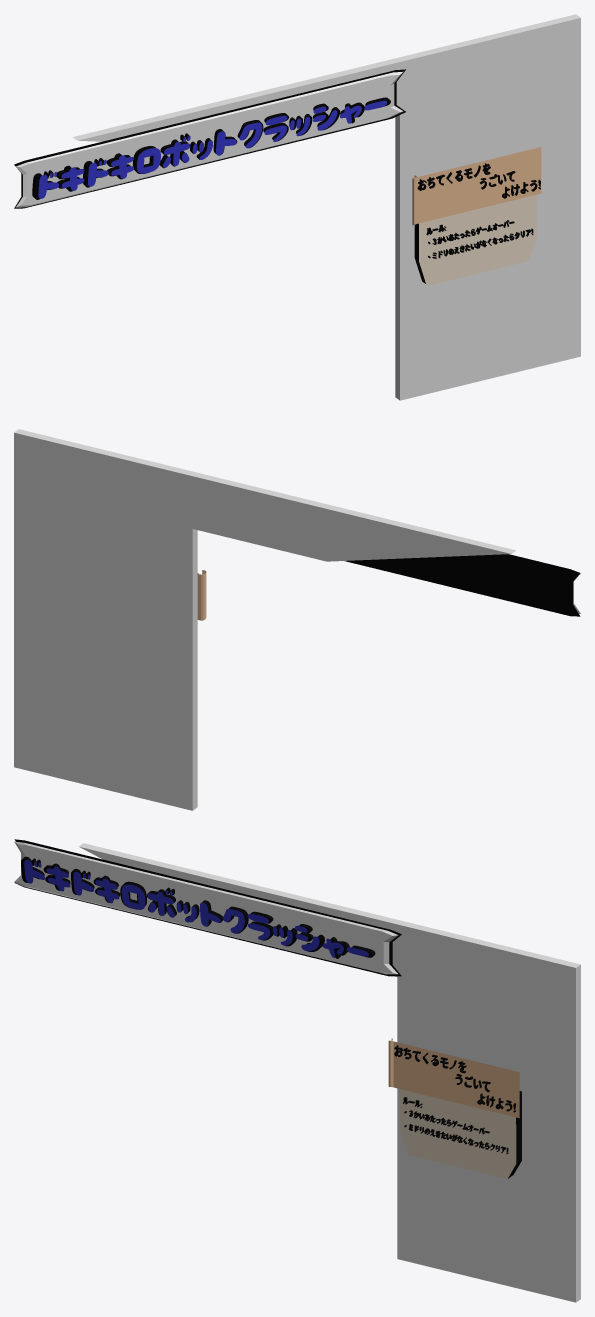
File: 準備画面.fbx
3 views of the same model, one above another, from view 1: azimuth 30°, elevation 25°; view 2: azimuth 150°, elevation 25°; view 3: azimuth 330°, elevation 25° (orthographic).
Visible parts, largest first — view 1: 背景3, 背景, 背景.002, 背景.001, ドキドキロボットクラッシャー 立体, ドキドキロボットクラッシャー, 背景2, ・ミドリのえきたいがなくなったらクリア; view 2: 背景3, 背景2; view 3: 背景3, 背景, 背景.002, 背景.001, ドキドキロボットクラッシャー 立体, ドキドキロボットクラッシャー, 背景2.
Boxes of the visible parts, x1,y1,x2,y2 form: 背景3: (72, 14, 580, 400); 背景: (16, 71, 403, 207); 背景.002: (418, 195, 536, 285); 背景.001: (412, 147, 541, 225); ドキドキロボットクラッシャー 立体: (38, 100, 386, 198); ドキドキロボットクラッシャー: (32, 97, 390, 199); 背景2: (14, 69, 405, 208); ・ミドリのえきたいがなくなったらクリア: (428, 228, 533, 258); 背景3: (14, 429, 515, 810); 背景2: (345, 554, 580, 616); 背景3: (79, 843, 580, 1302); 背景: (14, 841, 398, 974); 背景.002: (399, 1089, 516, 1178); 背景.001: (388, 1038, 519, 1118); ドキドキロボットクラッシャー 立体: (24, 860, 368, 957); ドキドキロボットクラッシャー: (21, 856, 375, 958); 背景2: (14, 839, 401, 976).
Size of the model in its own units: 2670 by 1522 by 134.
